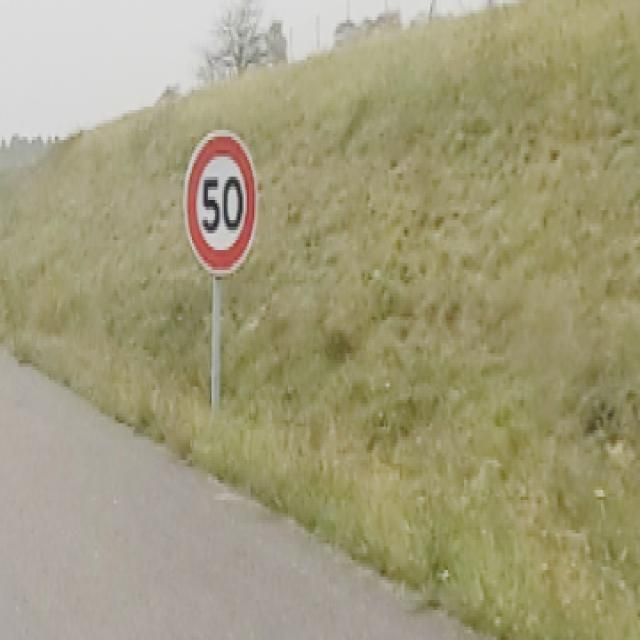speed_50: (184, 128, 258, 278)
